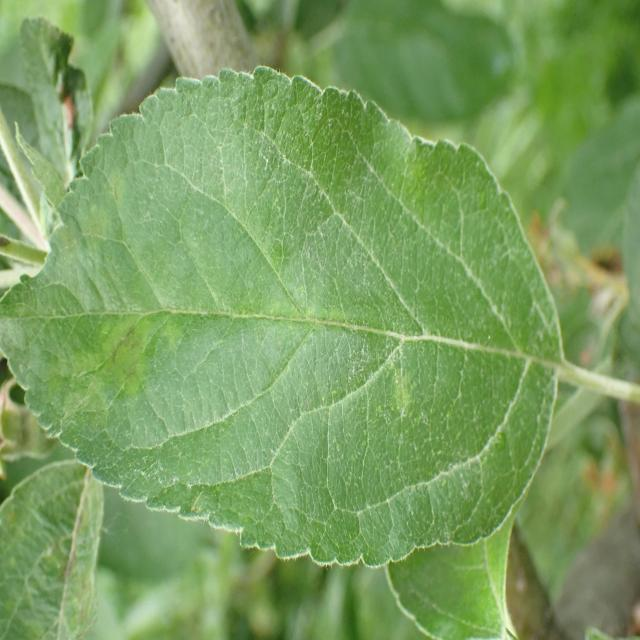scab: (46, 124, 460, 511)
